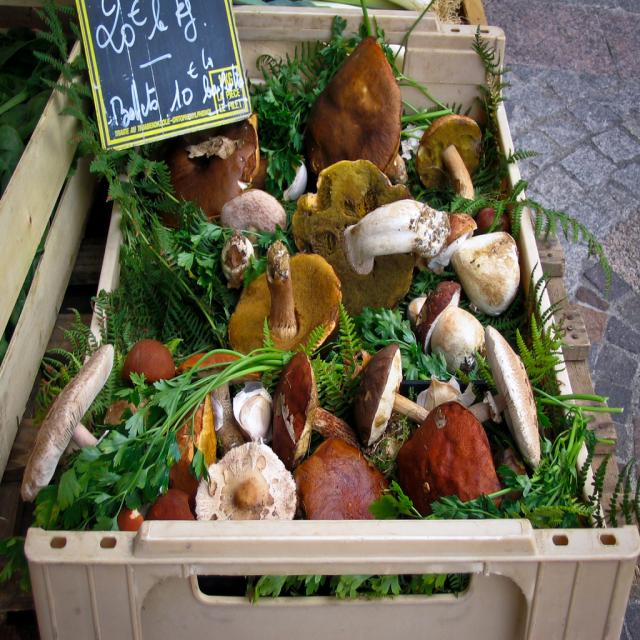Mushroom: (22, 35, 540, 531), (226, 246, 352, 365)
